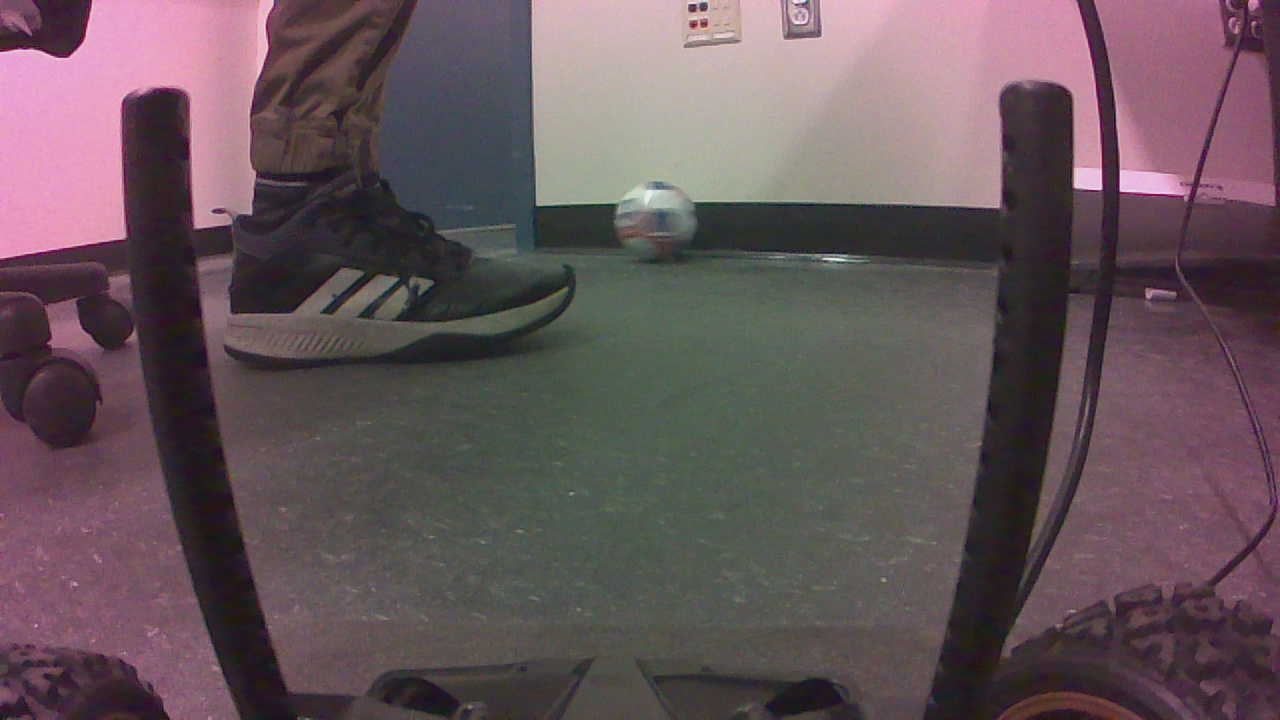ball: (619, 181, 705, 274)
